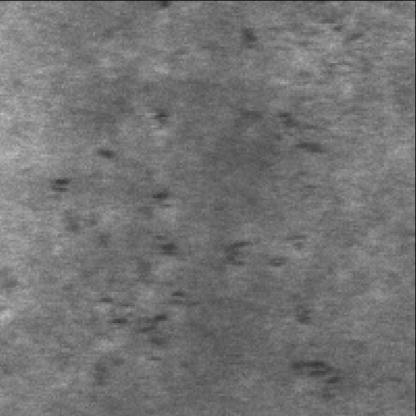rolled-in_scale: (127, 150, 324, 354), (50, 127, 202, 389), (222, 6, 412, 96)
